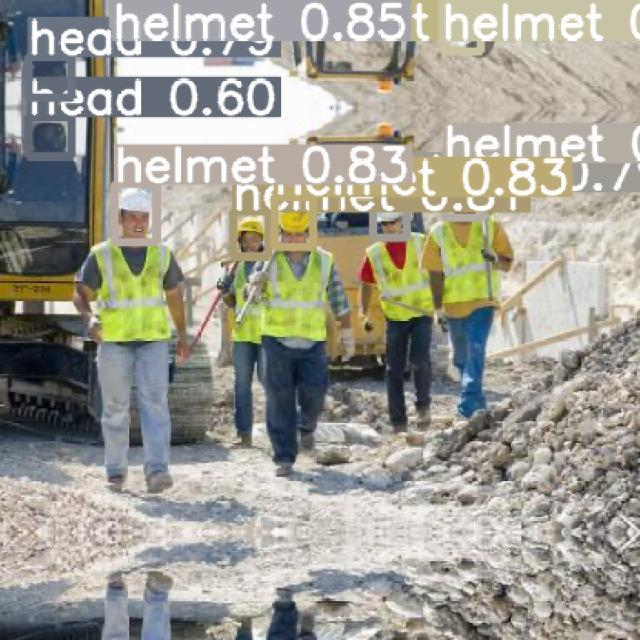white helmet: (116, 189, 161, 224), (366, 199, 411, 234)
yellow helmet: (274, 201, 319, 243), (236, 211, 274, 249)
